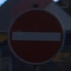No entry: (6, 7, 65, 65)
